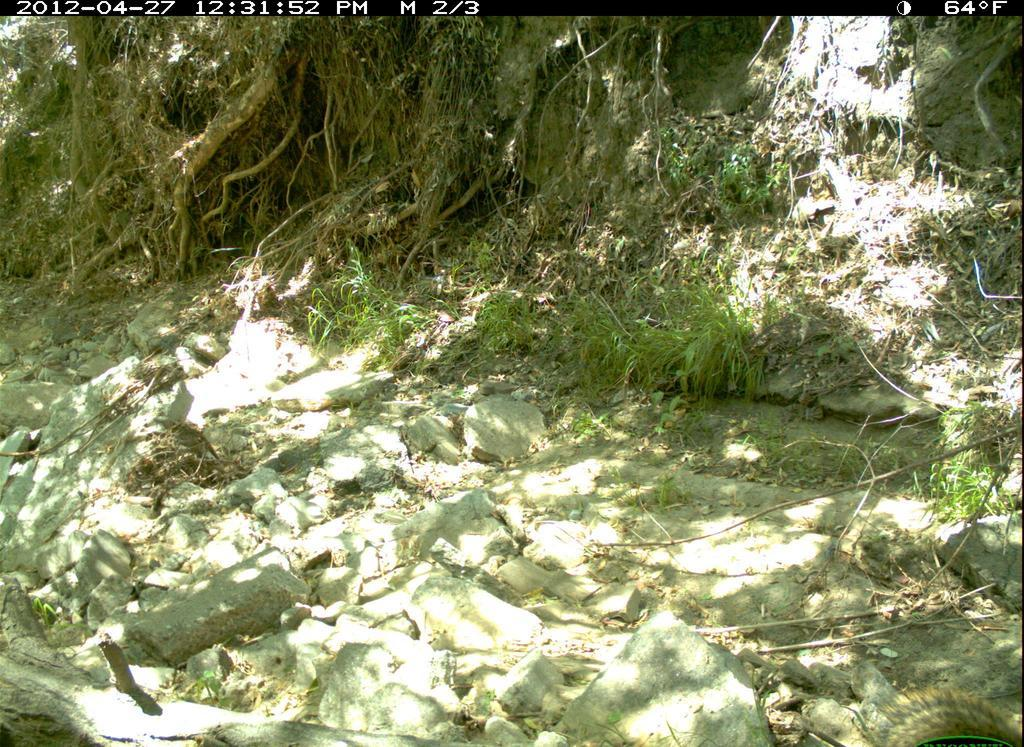squirrel: (856, 683, 1023, 744)
